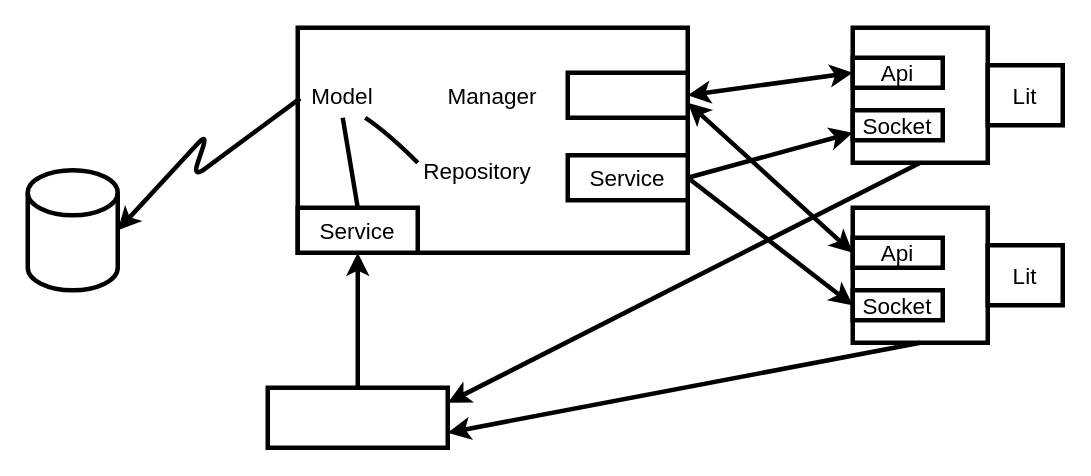
Image size: 1091x476. Some labels were removed from this diagram. The centre of each missing label's shape, as x and y in pixels:
"DB" goes at (72,229).
"KeyCloak" goes at (357,417).
"Rest" goes at (627,94).
